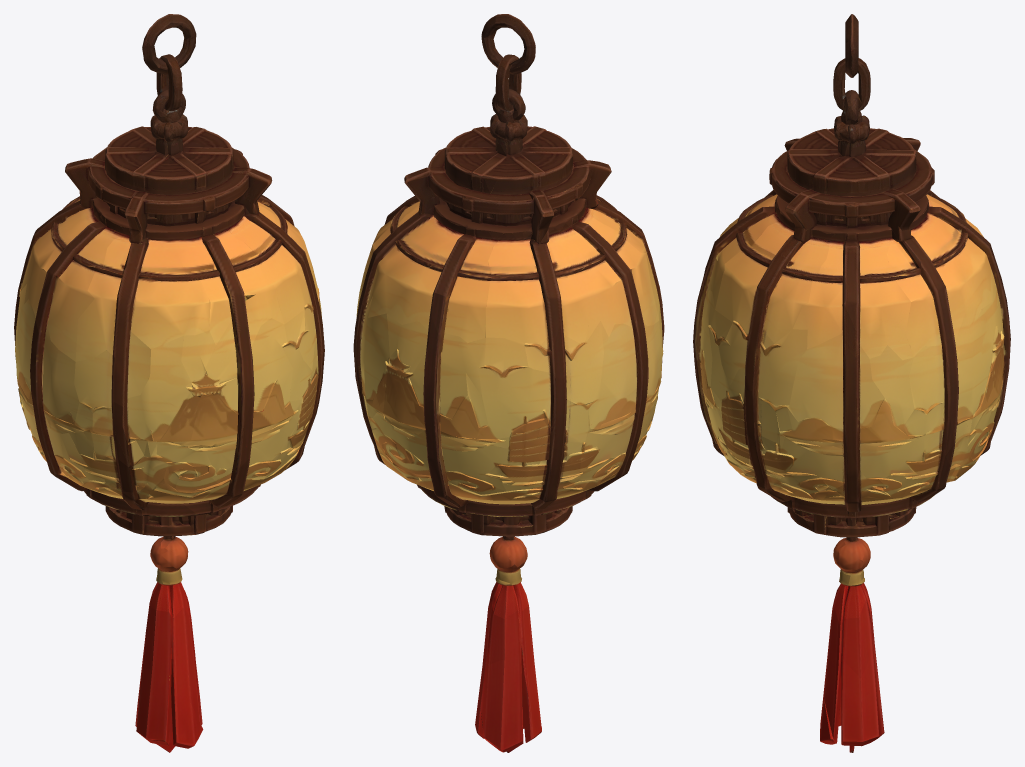
The model's file is lantern-paper.glb.
The picture shows the model from 3 angles, left to right: view 1: azimuth 30°, elevation 25°; view 2: azimuth 150°, elevation 25°; view 3: azimuth 270°, elevation 25°; orthographic projection.
Size of the model in its own units: 0.7387 by 1.9 by 0.744.
Materials: 1 (1 with a texture image).
